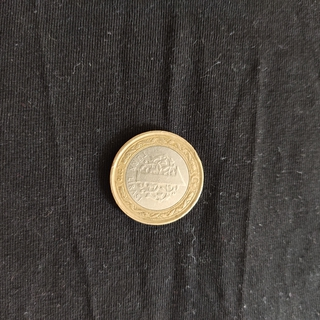1TL: (108, 128, 205, 227)
